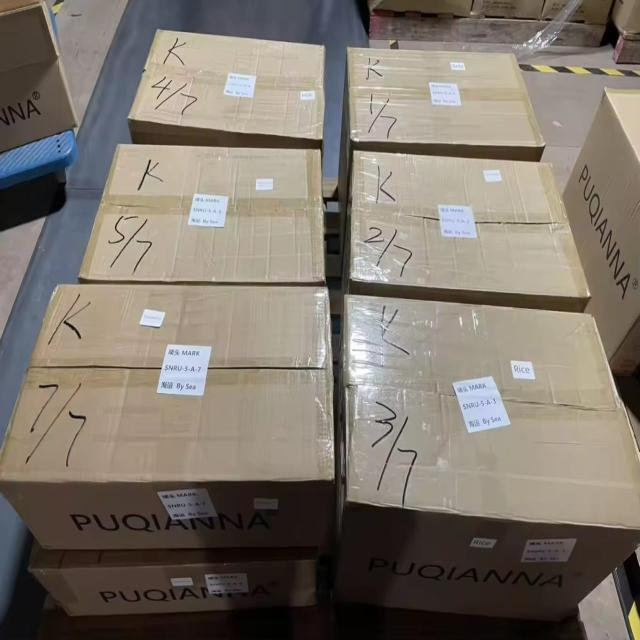carton_box: (316, 259, 640, 627), (0, 264, 342, 566), (340, 135, 604, 332), (69, 146, 334, 301), (337, 22, 554, 200), (9, 529, 339, 640), (119, 7, 332, 161), (553, 62, 640, 374)
export_mark_label: (149, 323, 222, 413), (441, 370, 521, 452), (429, 180, 494, 254), (416, 62, 479, 131), (212, 56, 267, 118), (183, 181, 238, 240)
